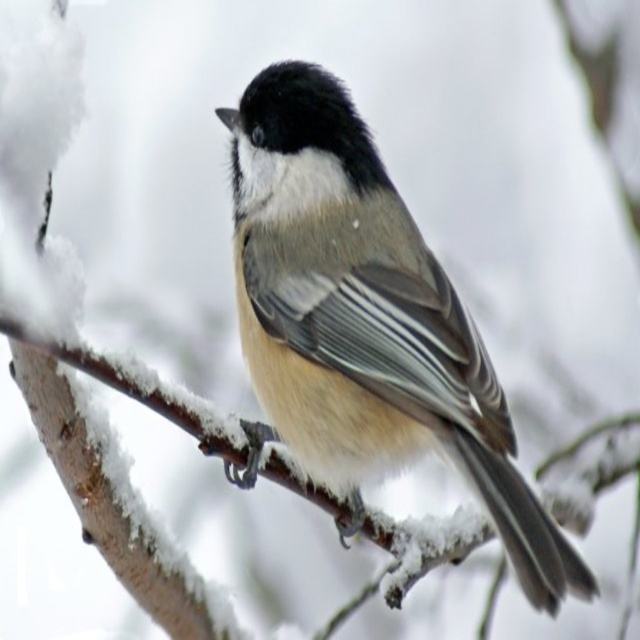Sparrow: (214, 59, 602, 620)
